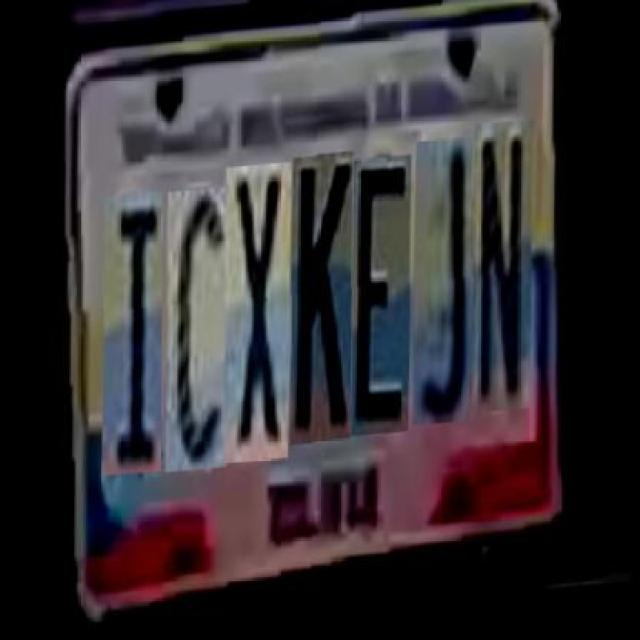c: (167, 192, 231, 476)
e: (352, 164, 412, 444)
i: (103, 194, 165, 478)
j: (414, 147, 474, 435)
k: (292, 159, 354, 450)
n: (473, 130, 535, 424)
x: (225, 167, 293, 468)
